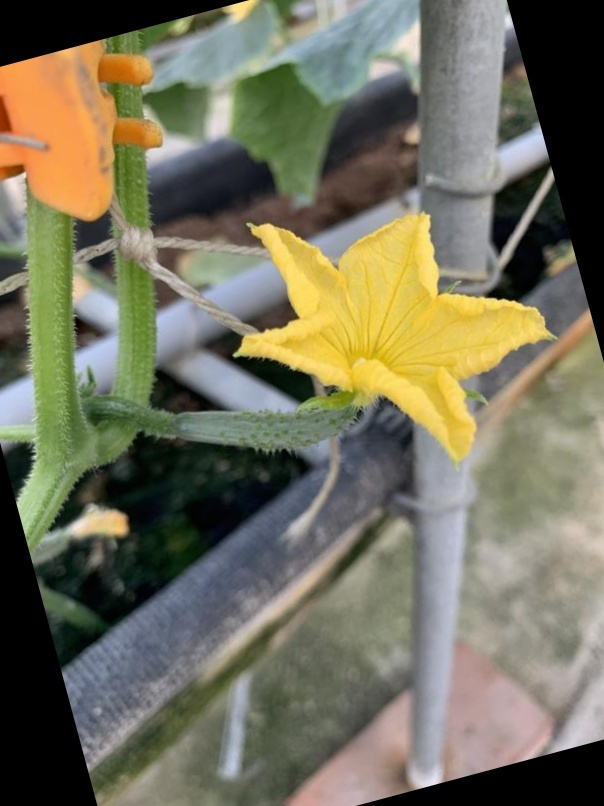flowering: (153, 208, 565, 456)
